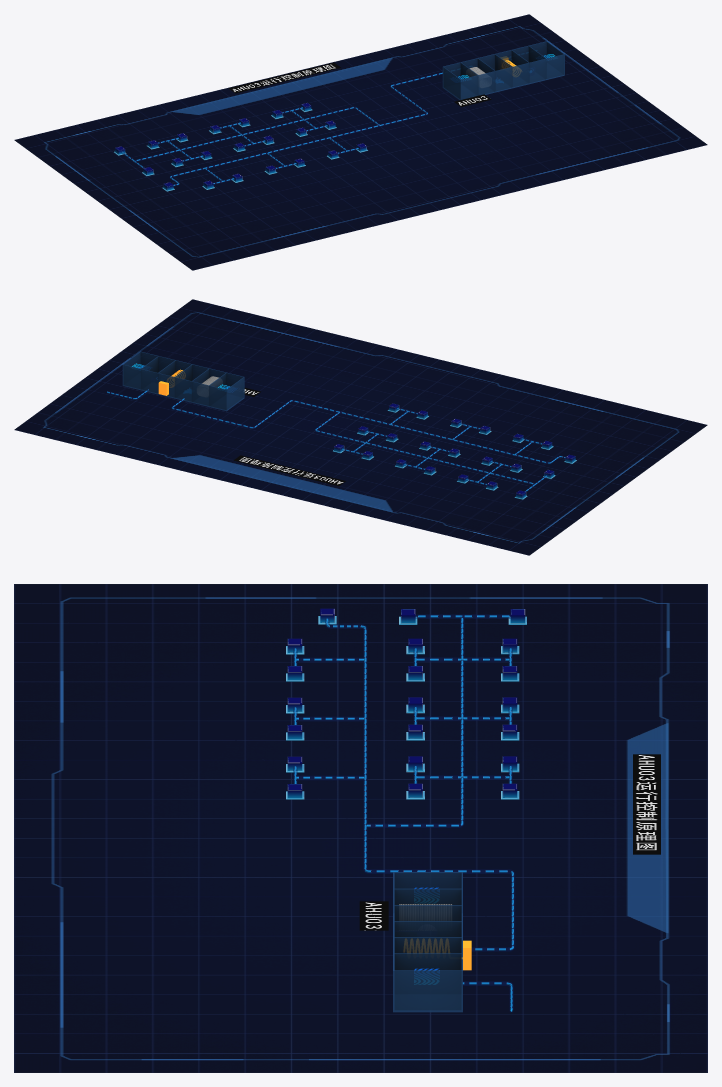
File: AHU03.FBX
The picture shows the model from 3 angles, top to bottom: view 1: azimuth 30°, elevation 25°; view 2: azimuth 150°, elevation 25°; view 3: azimuth 270°, elevation 25°; orthographic projection. The views are drawn at different scales.
Visible parts, largest first — view 1: BG, MAU_Body, AHU03_Pipe, Outlet293, AHU03_Wind, RoomName; view 2: BG, MAU_Body, AHU03_Pipe, Outlet293, AHU03_Wind, RoomName; view 3: BG, MAU_Body, AHU03_Pipe, Outlet293, AHU03_Wind, RoomName.
Boxes of the visible parts, x1=… form: BG: x1=14, y1=14, x2=707, y2=270; MAU_Body: x1=442, y1=41, x2=564, y2=100; AHU03_Pipe: x1=121, y1=72, x2=442, y2=186; Outlet293: x1=114, y1=103, x2=367, y2=191; AHU03_Wind: x1=122, y1=72, x2=442, y2=185; RoomName: x1=229, y1=62, x2=491, y2=106; BG: x1=14, y1=299, x2=707, y2=555; MAU_Body: x1=122, y1=351, x2=244, y2=411; AHU03_Pipe: x1=107, y1=389, x2=565, y2=491; Outlet293: x1=333, y1=403, x2=576, y2=499; AHU03_Wind: x1=107, y1=389, x2=565, y2=491; RoomName: x1=230, y1=385, x2=345, y2=486; BG: x1=14, y1=584, x2=707, y2=1072; MAU_Body: x1=393, y1=872, x2=462, y2=1012; AHU03_Pipe: x1=293, y1=614, x2=514, y2=1011; Outlet293: x1=286, y1=608, x2=526, y2=799; AHU03_Wind: x1=294, y1=615, x2=513, y2=1011; RoomName: x1=359, y1=754, x2=660, y2=930.
Size of the model in its own units: 250 by 14.04 by 150.
